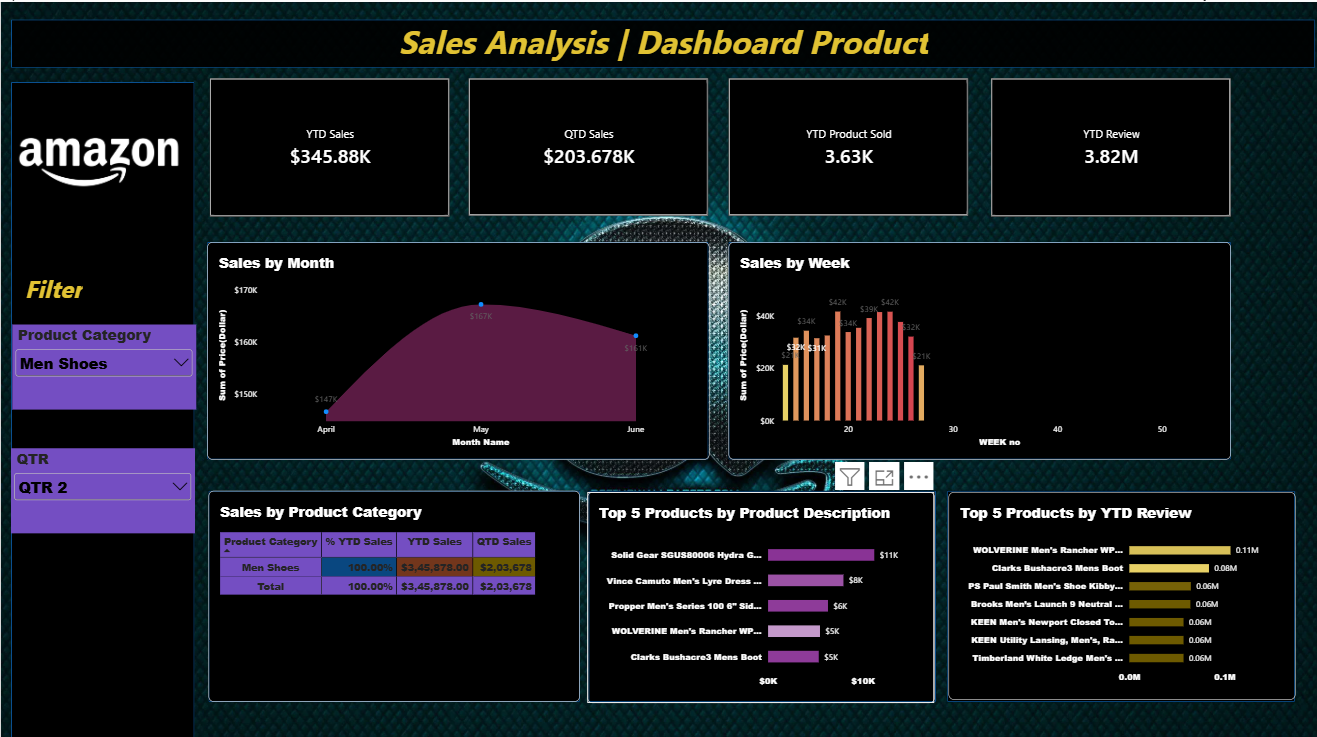

The page's visual inventory and layout, read from the dashboard file:
{"tool":"powerbi","page":{"name":"Page 1","canvas":[1920,1080],"ordinal":0},"visuals":[{"type":"shape","box":[14.4,24.7,1889.5,70],"z":0},{"type":"cardVisual","fields":{"Data":["Amazon_Data.QTD"]},"box":[676.3,110.9,347.5,199.1],"z":0},{"type":"cardVisual","fields":{"Data":["Amazon_Data.YTD Sales"]},"box":[301.7,110.9,347.5,200.9],"z":1000},{"type":"shape","box":[14.4,115.3,265.5,950.9],"z":1000},{"type":"cardVisual","fields":{"Data":["Amazon_Data.YTD Product Sold"]},"box":[1053.2,111.1,347.5,199.1],"z":2000},{"type":"cardVisual","fields":{"Data":["Amazon_Data.YTD MEASURES"]},"box":[1433.3,111.1,347.5,200.9],"z":3000},{"type":"shape","box":[298.6,347.5,725.7,314.9],"z":7000},{"type":"areaChart","title":"Sales by Month","fields":{"Category":["Date Table.Month Name"],"Y":["Sum(Amazon_Data.Price(Dollar))"]},"box":[298.6,347.5,727.5,314.9],"z":8000},{"type":"shape","box":[1053.2,347.5,727.5,314.9],"z":9000},{"type":"shape","box":[300.4,707.6,537.5,305.8],"z":10000},{"type":"columnChart","title":"Sales by Week","fields":{"Category":["Date Table.WEEK no"],"Y":["Sum(Amazon_Data.Price(Dollar))"]},"box":[1053.2,347.5,727.5,314.9],"z":11000},{"type":"pivotTable","title":"Sales by Product Category","fields":{"Rows":["Amazon_Data.Product Category"],"Values":["Amazon_Data.YTD Sales","Amazon_Data.YTD Sales1","Amazon_Data.QTD Sales"]},"box":[300.4,707.6,537.5,305.8],"z":12000},{"type":"shape","box":[850.5,707.6,503.1,305.8],"z":13000},{"type":"shape","box":[1369.9,707.6,503.1,305.8],"z":14000},{"type":"clusteredBarChart","title":"Top 5 Products by Product Description","fields":{"Category":["Amazon_Data.Product Description"],"Y":["Amazon_Data.YTD Sales"]},"box":[848,710.1,503.1,305.8],"z":15000},{"type":"clusteredBarChart","title":"Top 5 Products by YTD Review ","fields":{"Category":["Amazon_Data.Product Description"],"Y":["Amazon_Data.YTD Review"]},"box":[1370.8,710.1,502.2,300.5],"z":15001},{"type":"slicer","fields":{"Values":["Amazon_Data.Product Category"]},"box":[16.3,466.9,266,123.1],"z":15002},{"type":"slicer","fields":{"Values":["Date Table.QTR"]},"box":[14.5,646,266,123.1],"z":15003},{"type":"shape","box":[34.4,378.2,186.4,70.6],"z":15004},{"type":"image","box":[16,116,250,232],"z":15005}]}

Visuals, with their boxes in screenshot pixels (x1, y1, x2, y2), scaled from the page's 1920x1080 canvas onto the 1317x737 screenshot:
shape: (10,17,1306,65)
cardVisual - Amazon_Data.QTD: (464,76,702,212)
cardVisual - Amazon_Data.YTD Sales: (207,76,445,213)
shape: (10,79,192,728)
cardVisual - Amazon_Data.YTD Product Sold: (722,76,961,212)
cardVisual - Amazon_Data.YTD MEASURES: (983,76,1222,213)
shape: (205,237,703,452)
"Sales by Month" areaChart: (205,237,704,452)
shape: (722,237,1221,452)
shape: (206,483,575,692)
"Sales by Week" columnChart: (722,237,1221,452)
"Sales by Product Category" pivotTable: (206,483,575,692)
shape: (583,483,928,692)
shape: (940,483,1285,692)
"Top 5 Products by Product Description" clusteredBarChart: (582,485,927,693)
"Top 5 Products by YTD Review " clusteredBarChart: (940,485,1285,690)
slicer - Amazon_Data.Product Category: (11,319,194,403)
slicer - Date Table.QTR: (10,441,192,525)
shape: (24,258,151,306)
image: (11,79,182,237)
